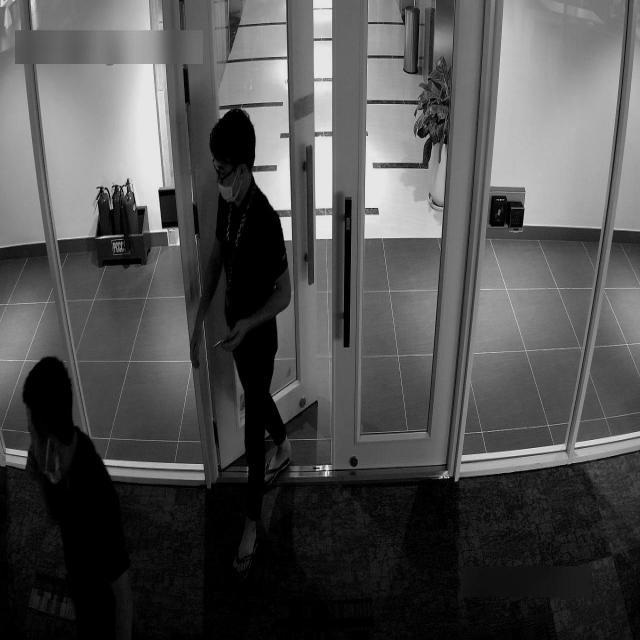hairnet: (26, 418, 61, 484)
